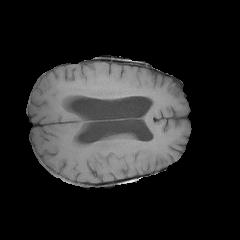glioma: (61, 80, 157, 104)
